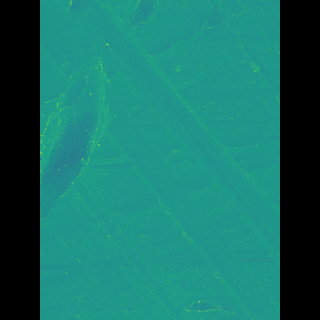Loch: (70, 0, 249, 320), (68, 51, 125, 225), (88, 0, 161, 49), (174, 288, 218, 319)
